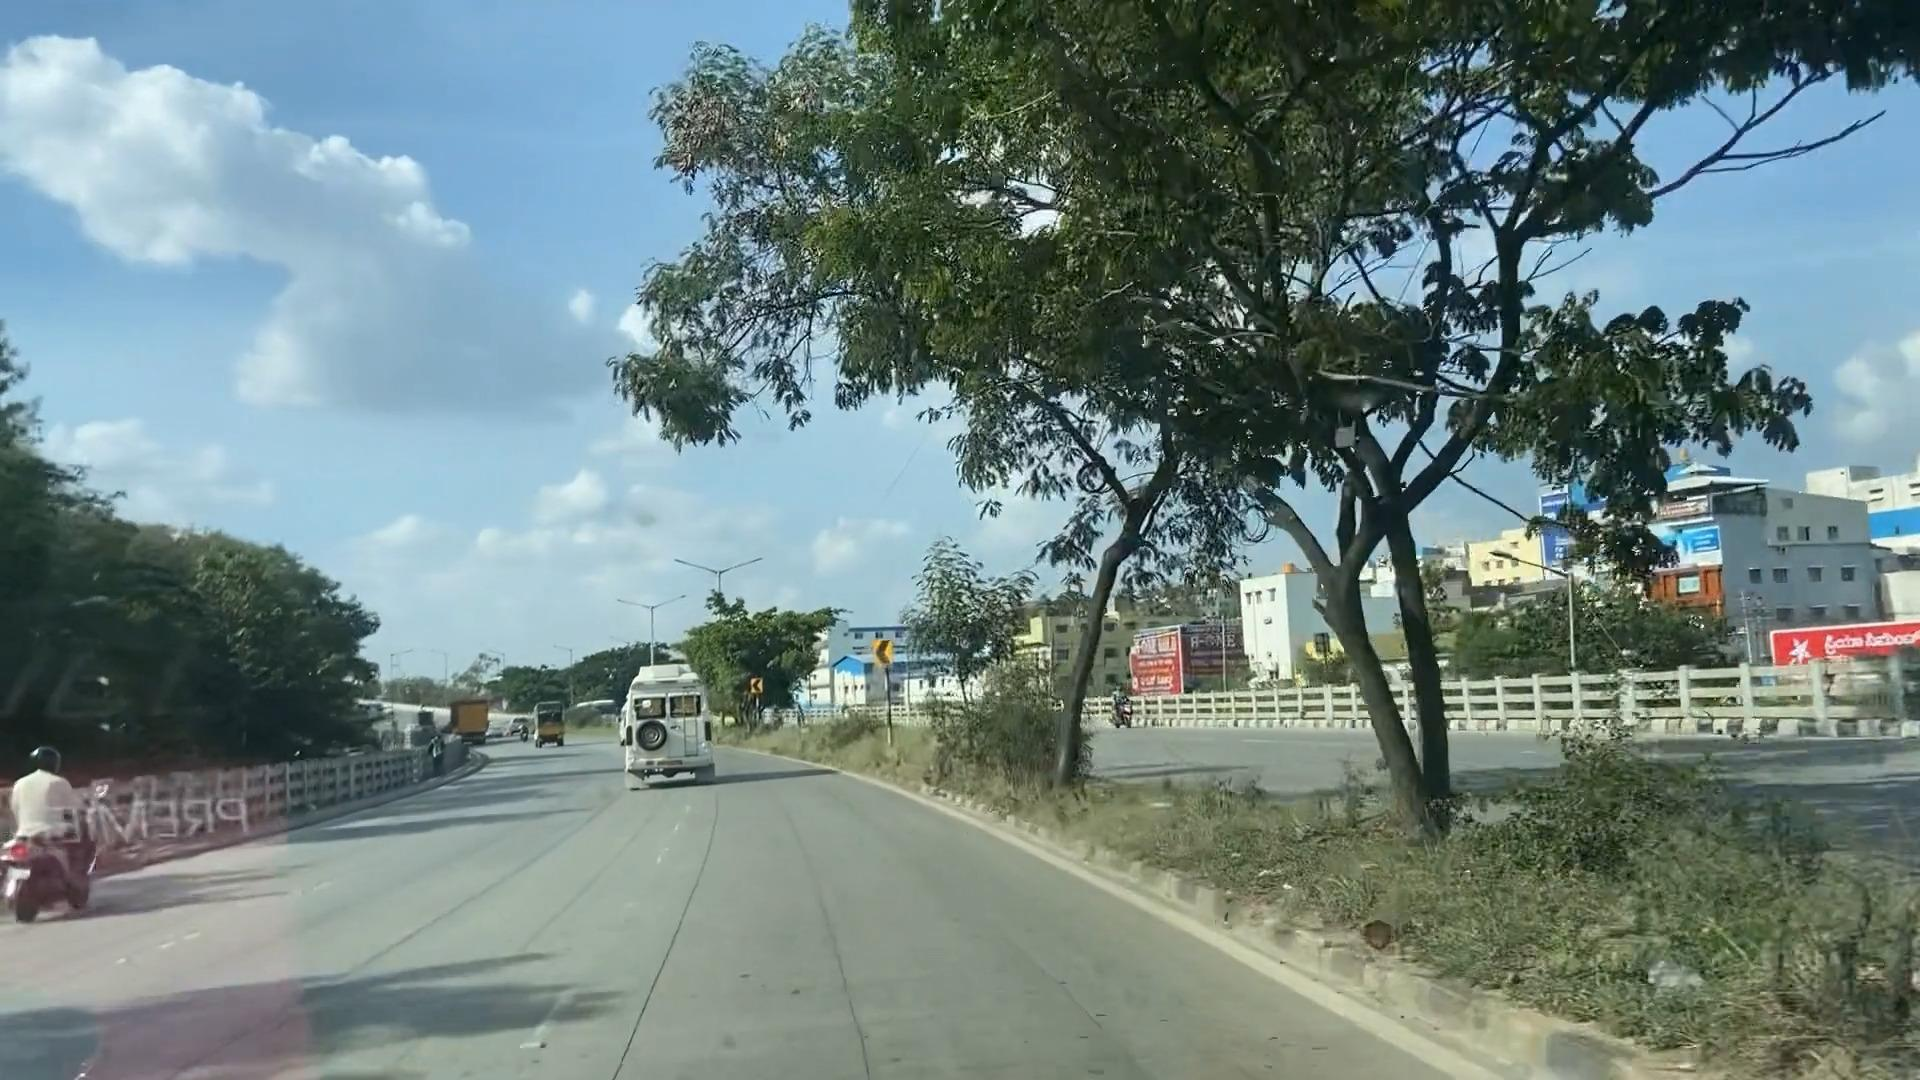HMV: (606, 638, 713, 784)
LMV: (10, 734, 91, 909)
